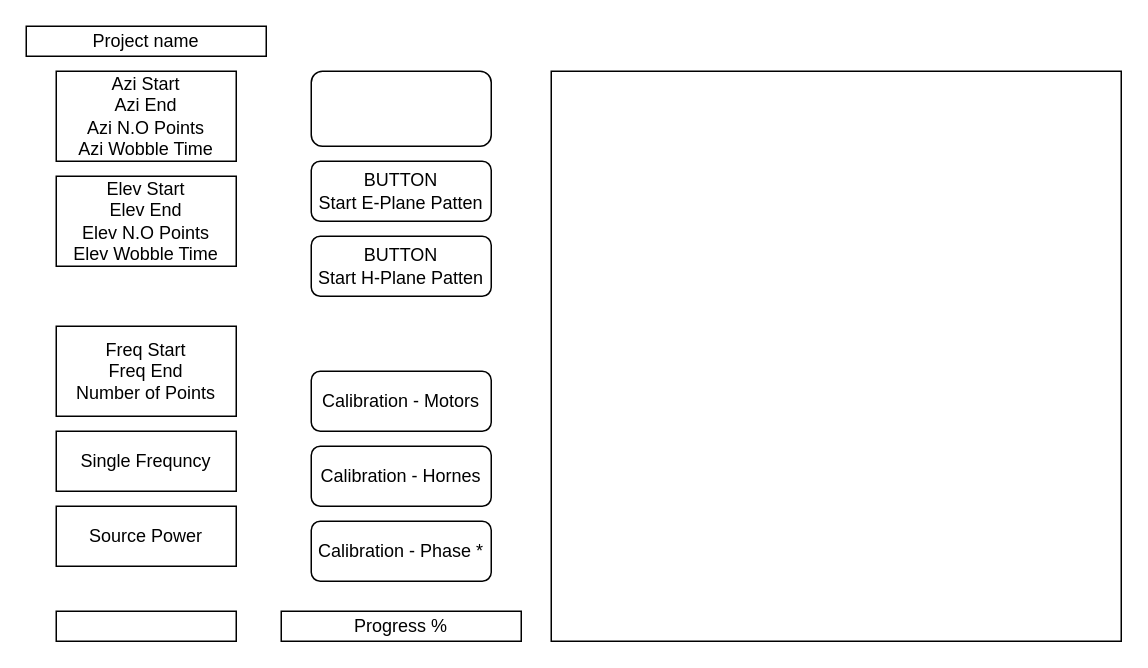
This 1148x668 diagram has some shape labels left out. Here are the shapes that lost their labels. From the top down, the box of each, then its label:
(310, 70, 491, 146): BUTTON Start Full 3D Scan
(550, 70, 1121, 641): Live View - Heat map + Freq + Gain
(55, 610, 236, 641): STOP
